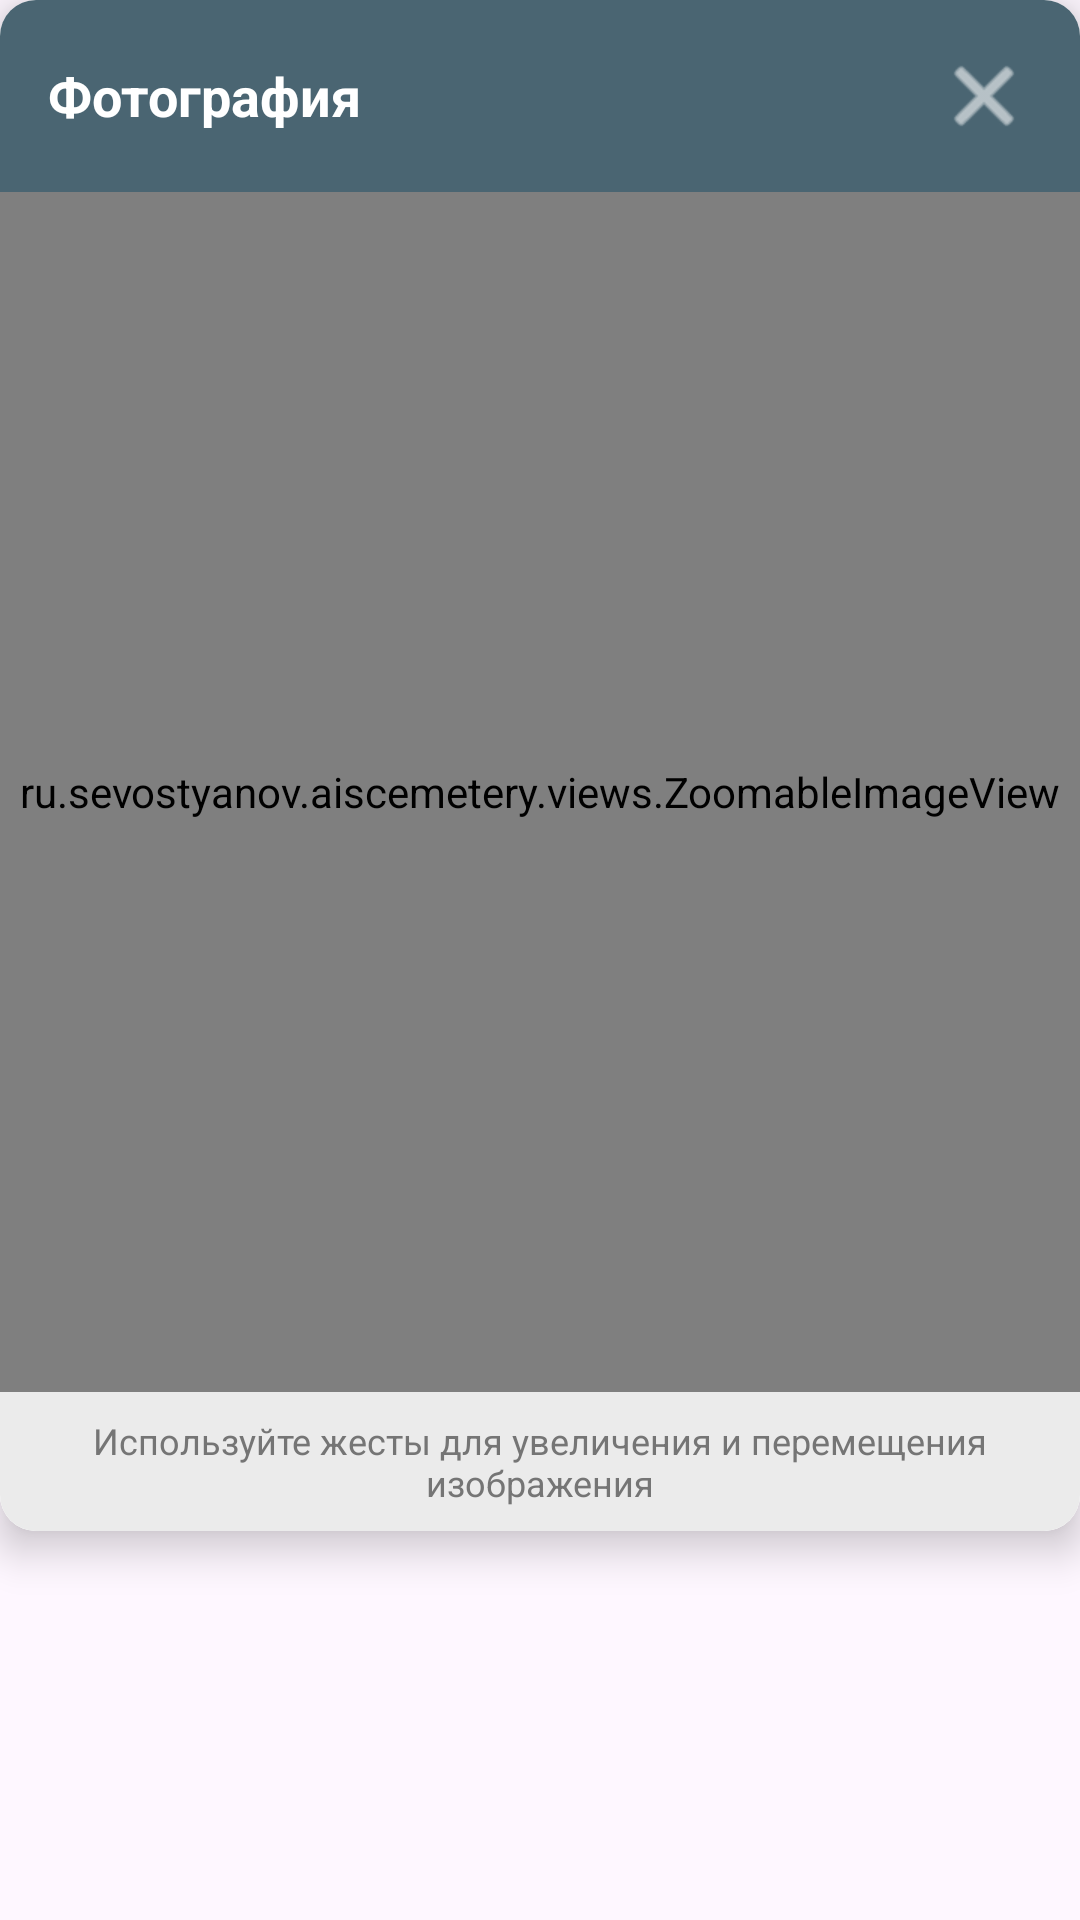

Screen size 1080w x 1920h. Icon name, then its center in pixels as [x,y]:
Закрыть: [984,96]
